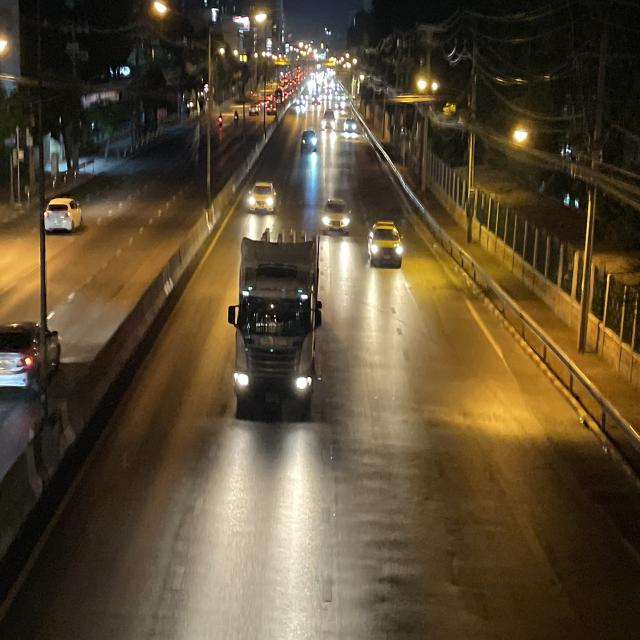car: (368, 218, 403, 270), (322, 193, 352, 236), (247, 181, 278, 214)
truck: (227, 227, 323, 422)
